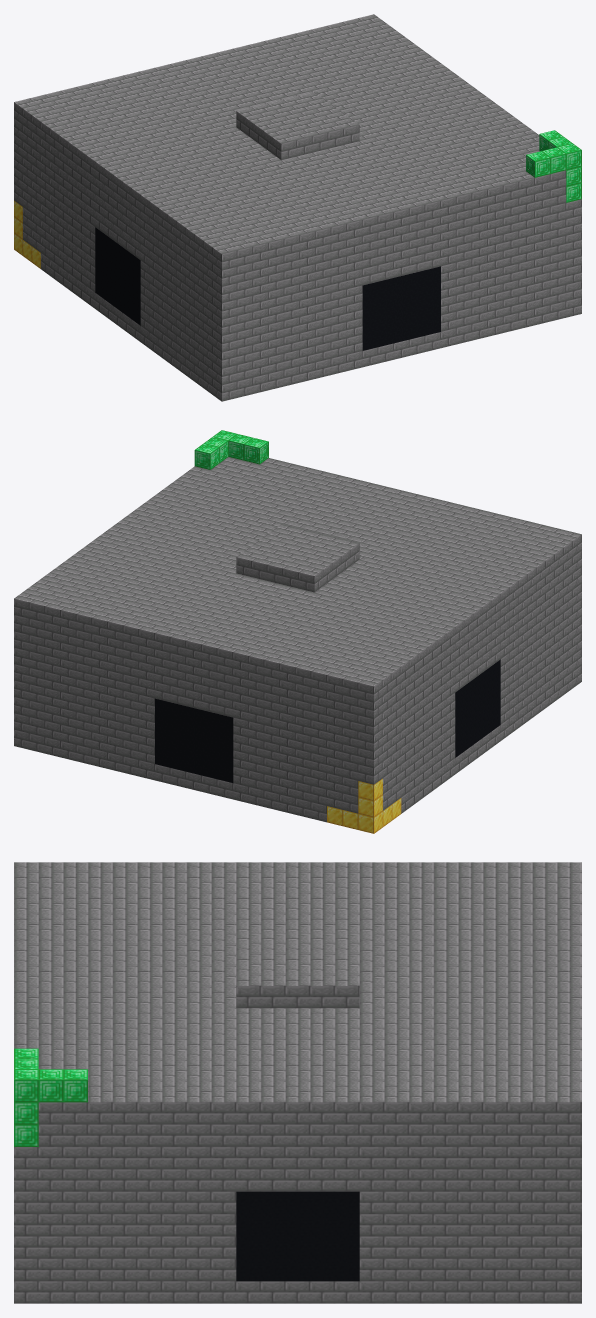
Rendered from Connector B.obj.
The picture shows the model from 3 angles, top to bottom: view 1: azimuth 30°, elevation 25°; view 2: azimuth 150°, elevation 25°; view 3: azimuth 270°, elevation 25°; orthographic projection. The views are drawn at different scales.
Visible parts, largest first — view 1: Stone_Bricks, Black_Concrete, Block_of_Emerald, Stone_Brick_Slab, Stone_Brick_Stairs, Block_of_Gold; view 2: Stone_Bricks, Black_Concrete, Block_of_Gold, Block_of_Emerald, Stone_Brick_Slab, Stone_Brick_Stairs; view 3: Stone_Bricks, Black_Concrete, Block_of_Emerald, Stone_Brick_Slab, Stone_Brick_Stairs.
Part boxes in pixels (<box>): Stone_Bricks: <box>14,14,581,401</box>; Black_Concrete: <box>95,227,440,350</box>; Block_of_Emerald: <box>526,130,581,202</box>; Stone_Brick_Slab: <box>230,126,365,162</box>; Stone_Brick_Stairs: <box>221,118,374,166</box>; Block_of_Gold: <box>14,200,40,268</box>; Stone_Bricks: <box>14,457,581,822</box>; Black_Concrete: <box>155,659,500,782</box>; Block_of_Gold: <box>327,778,401,833</box>; Block_of_Emerald: <box>194,430,268,469</box>; Stone_Brick_Slab: <box>230,558,365,595</box>; Stone_Brick_Stairs: <box>221,551,374,598</box>; Stone_Bricks: <box>14,862,581,1303</box>; Black_Concrete: <box>236,1191,359,1281</box>; Block_of_Emerald: <box>14,1048,87,1146</box>; Stone_Brick_Slab: <box>211,966,384,1018</box>; Stone_Brick_Stairs: <box>211,956,384,1018</box>.
Size of the model in its own units: 23 by 10 by 23.
13 materials, 13 textured.
